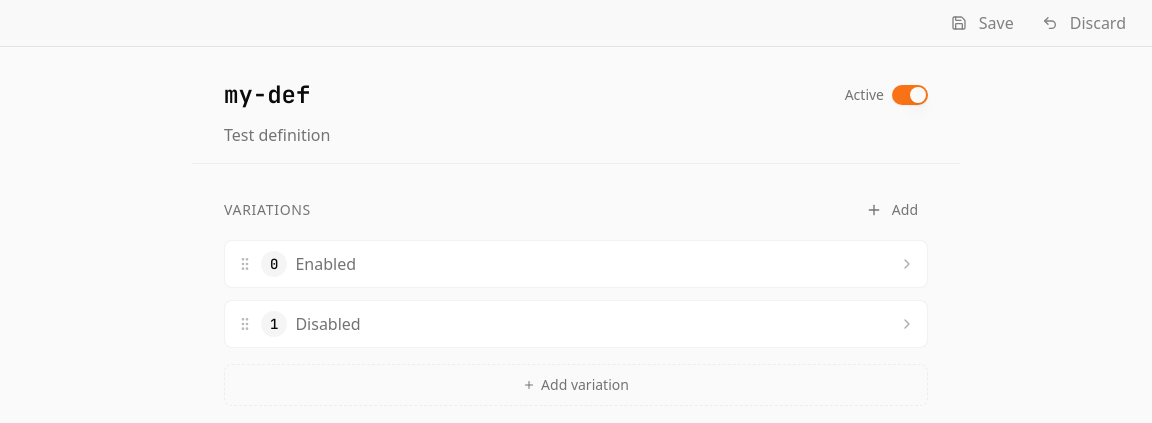
Test: DefinitionEditor › should handle Escape to cancel key editing
Click the button "my-def". click: (267, 94)
box: top-left (224, 79), bottom-right (829, 111)
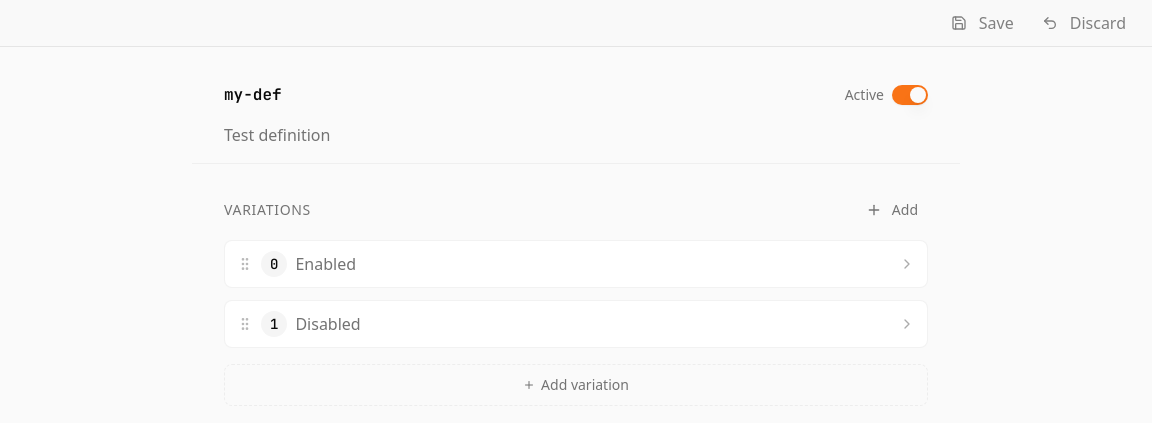
Replace the text in the field showing "my-def" with "changed". click: (526, 95)
box: top-left (224, 79), bottom-right (829, 111)
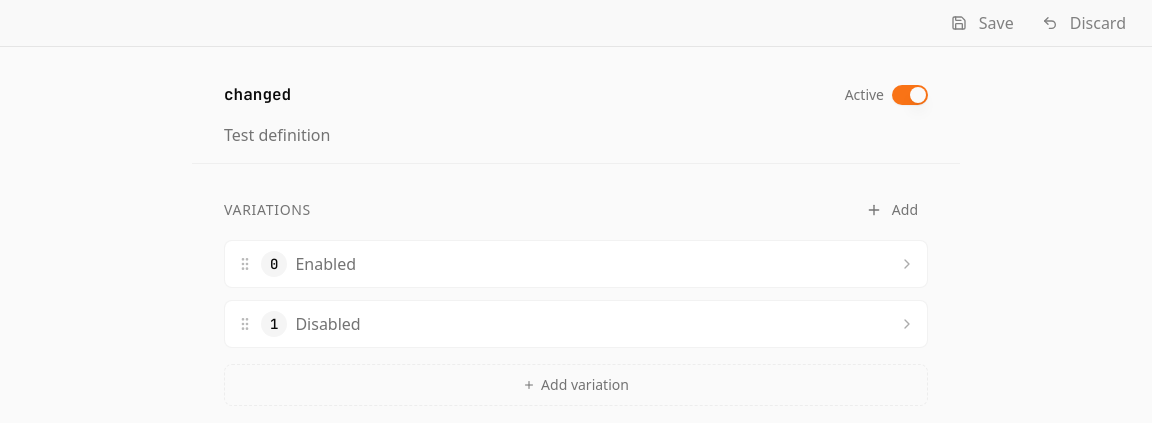
Press Escape in the field showing "my-def", box top-left (224, 79), bottom-right (829, 111)
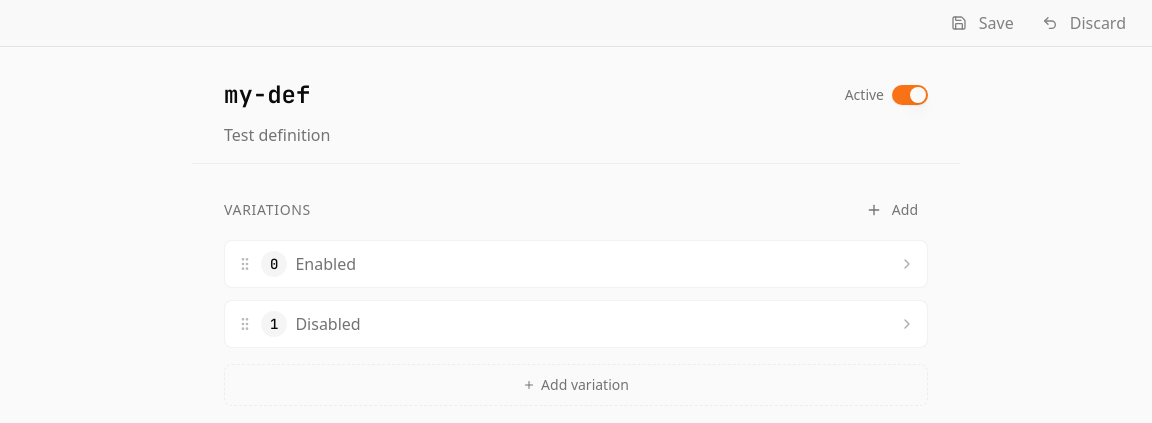
Expected: the button "my-def" is shown, top-left (224, 79), bottom-right (829, 111)
